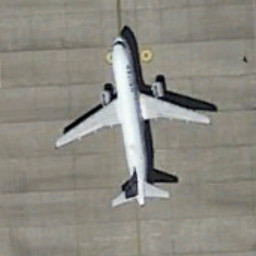Airplane: (38, 25, 218, 221)
